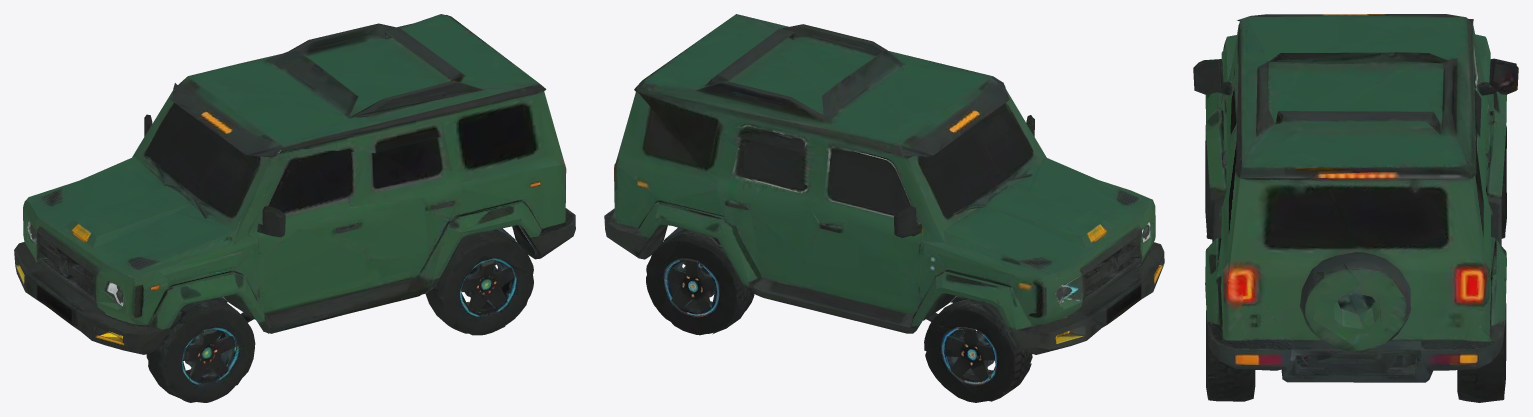
The model's file is traffic-suv.glb.
The picture shows the model from 3 angles, left to right: view 1: azimuth 30°, elevation 25°; view 2: azimuth 150°, elevation 25°; view 3: azimuth 270°, elevation 25°; orthographic projection. The views are drawn at different scales.
Size of the model in its own units: 1.9 by 0.9123 by 0.9347.
Materials: 1 (1 with a texture image).
